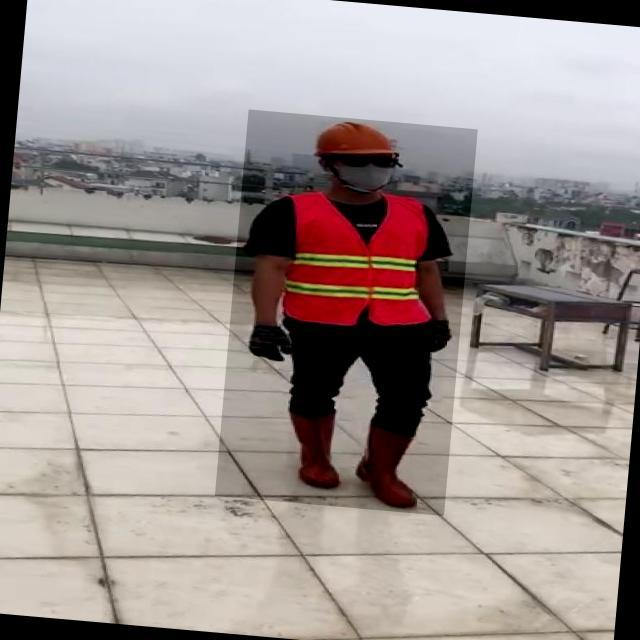Gloves: (244, 322, 295, 365), (421, 315, 456, 356)
Helmet: (306, 115, 405, 164)
Human: (215, 109, 478, 516)
Safety Boot: (353, 419, 426, 508), (277, 406, 352, 491)
Safety Vest: (271, 188, 440, 330)
